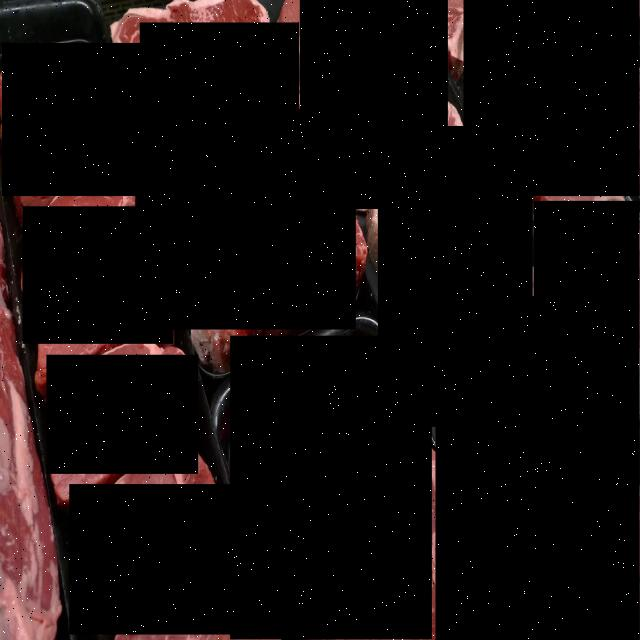Buff_Meat: (436, 296, 640, 640), (230, 336, 432, 640), (136, 109, 356, 330), (378, 126, 533, 427), (463, 0, 640, 196), (300, 0, 448, 209), (69, 485, 245, 635), (2, 43, 166, 197), (534, 201, 640, 413), (23, 207, 173, 344), (140, 23, 299, 141), (47, 356, 198, 474)
